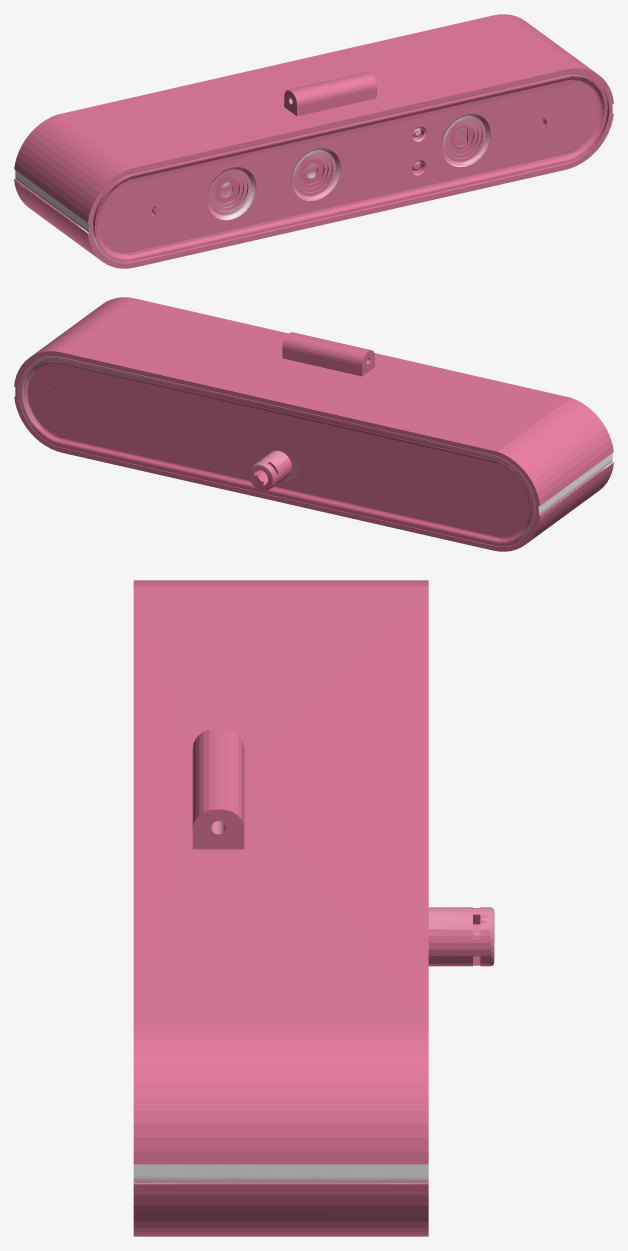
File: atom_astra_depth.dae
The picture shows the model from 3 angles, top to bottom: view 1: azimuth 30°, elevation 25°; view 2: azimuth 150°, elevation 25°; view 3: azimuth 270°, elevation 25°; orthographic projection. The views are drawn at different scales.
Visible parts, largest first — view 1: node; view 2: node; view 3: node.
Boxes of the visible parts, box(x1,y1,x2,y2) form: node: box(14, 14, 613, 268); node: box(14, 297, 613, 551); node: box(133, 580, 494, 1236).
Size of the model in its own units: 0.1649 by 0.0373 by 0.0489.
Materials: 1 (1 with a texture image).
